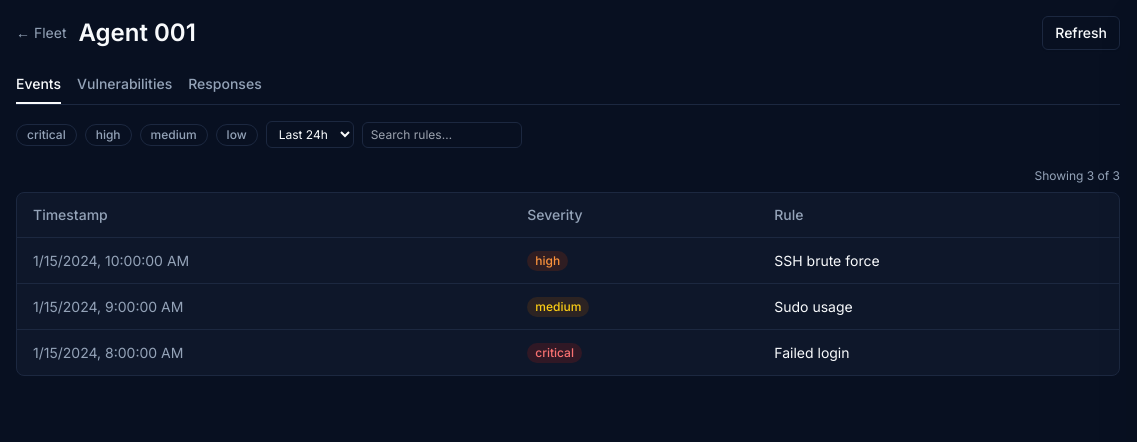
Scenario: AgentDetail — vulnerabilities tab › shows pagination controls when total > 50
Expected: the text "SSH brute force" is shown, [758, 238, 1119, 284]
Click the button "vulnerabilities" at (125, 89), box [77, 74, 172, 104]
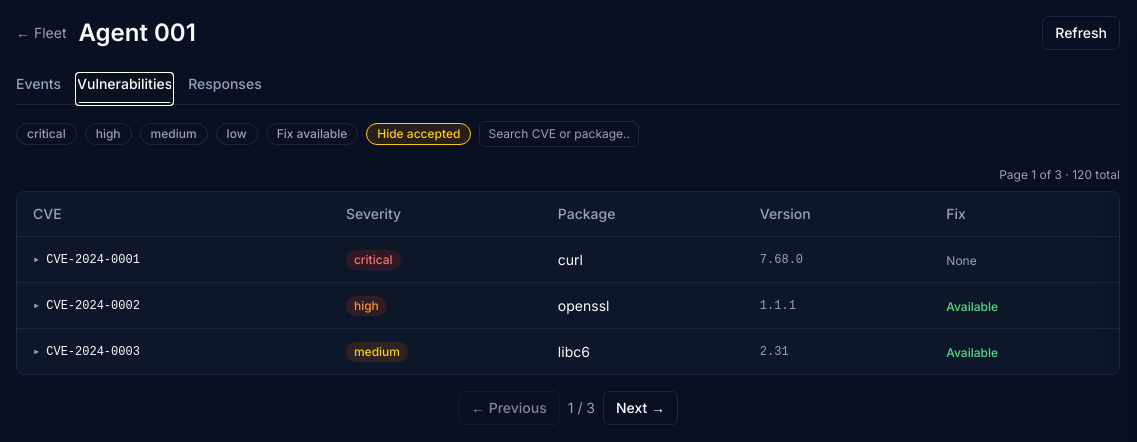
Expected: the button "Next →" is shown, [603, 391, 678, 425]
Expected: the button "← Previous" is shown, [458, 391, 560, 425]
